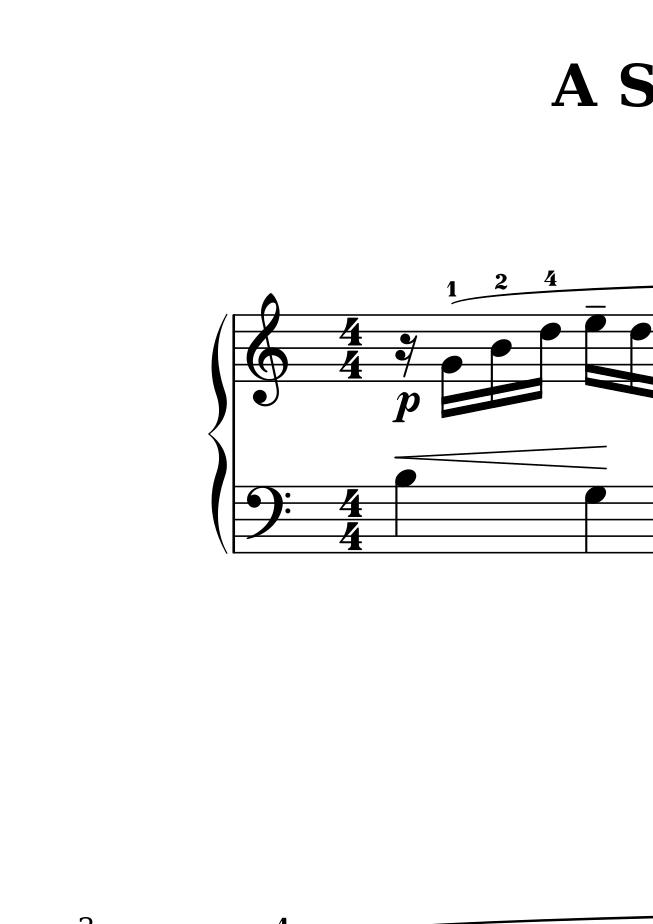16_2: (437, 312, 462, 419)
16_4: (488, 315, 513, 411)
16_6: (527, 312, 561, 402), (627, 311, 652, 399)
16_7: (582, 309, 607, 393)
4: (338, 313, 365, 348), (338, 485, 365, 520), (338, 519, 364, 553), (338, 348, 363, 382)
4_7: (582, 485, 608, 555)
4_9: (393, 469, 416, 553)
Brace: (209, 315, 230, 554)
Crescendo_hairpin: (394, 444, 608, 470)
Fclef: (243, 484, 290, 555)
Gclef: (244, 287, 290, 411)
Rests16: (394, 332, 419, 378)
Single_barline: (228, 315, 242, 381), (229, 486, 242, 553)
TimeSig: (337, 316, 366, 380), (338, 486, 366, 551)
p: (391, 390, 420, 426)
